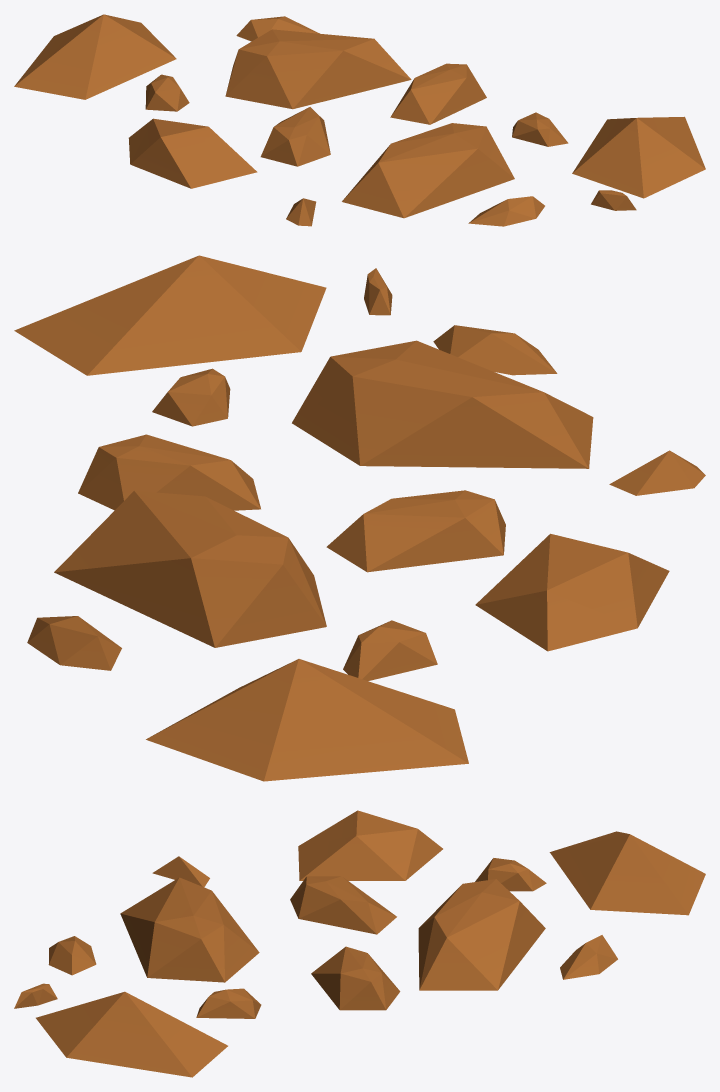
The model's file is Rubble_B.fbx.
The picture shows the model from 3 angles, top to bottom: view 1: azimuth 30°, elevation 25°; view 2: azimuth 150°, elevation 25°; view 3: azimuth 270°, elevation 25°; orthographic projection. The views are drawn at different scales.
Visible parts, largest first — view 1: Rubble_B; view 2: Rubble_B; view 3: Rubble_B.
Boxes of the visible parts, x1,y1,x2,y2 form: Rubble_B: (14,14,705,226); Rubble_B: (14,255,705,781); Rubble_B: (14,810,705,1077).
Size of the model in its own units: 62.95 by 5.64 by 74.77.
